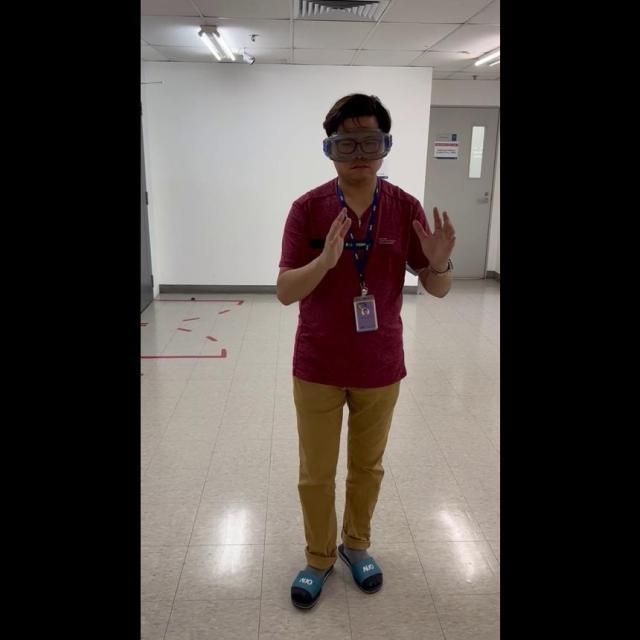bare_hand: (413, 202, 456, 269), (319, 207, 353, 267)
